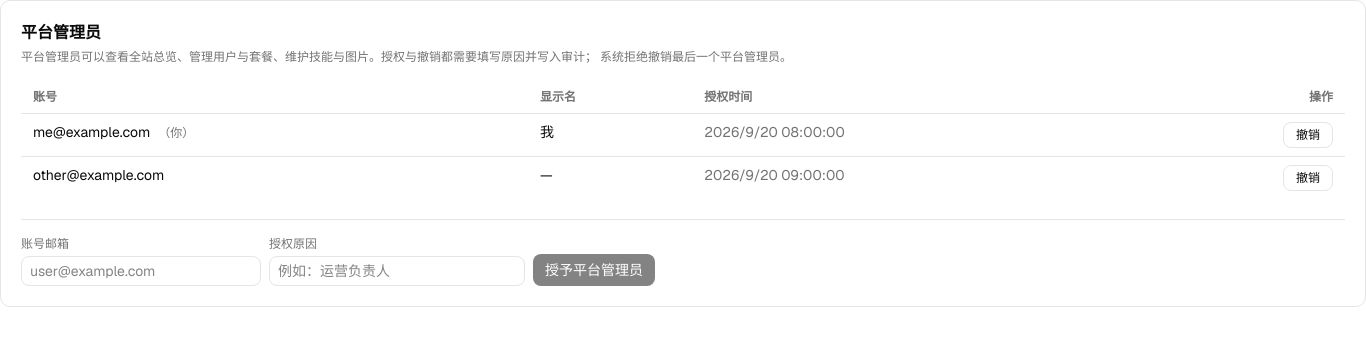
admin access section › requires an explicit inline confirmation with a reason before revoking
Click the button "撤销" in the row of "other@example.com": (1308, 178) [1283,165,1333,191]
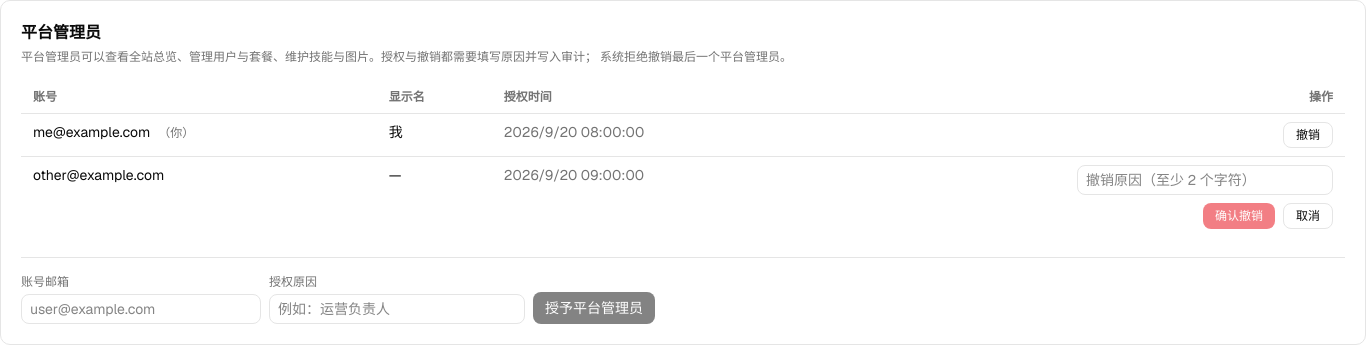
Expected: the button "确认撤销" is disabled, [1203,203,1275,229]
In the field named "撤销 other@example.com 的原因": (1205, 180) [1077,165,1333,195], type "离职"
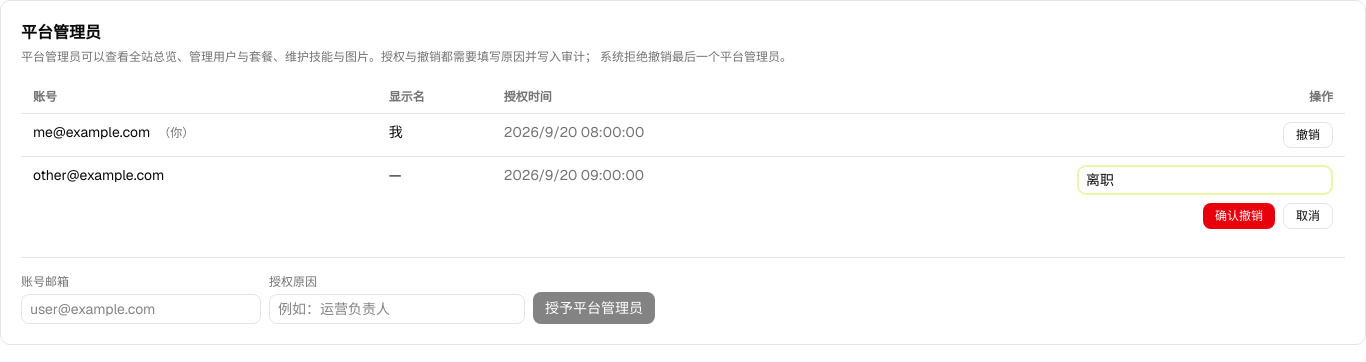
Expected: the button "确认撤销" is enabled
Click the button "确认撤销": (1239, 216) [1203,203,1275,229]
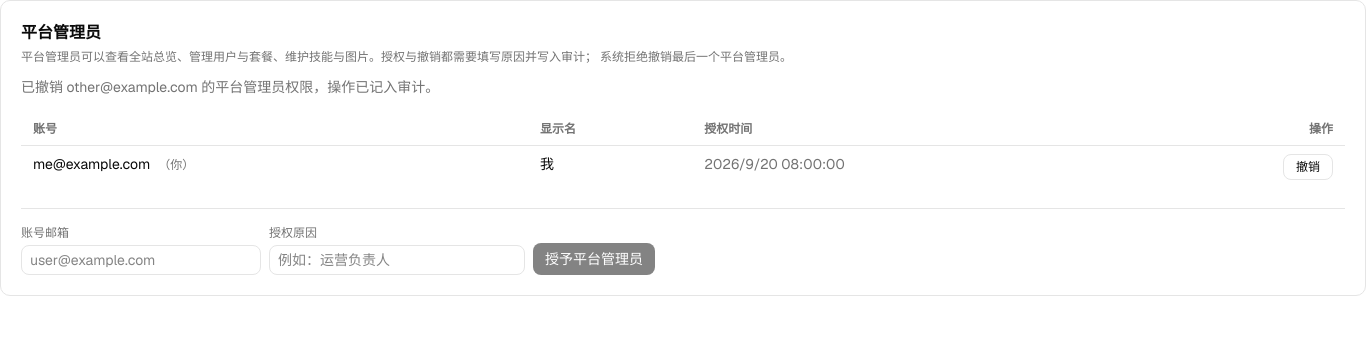
Expected: the text with test id "admin-access-feedback" shows "已撤销 other@example.com", [21,78,439,96]
